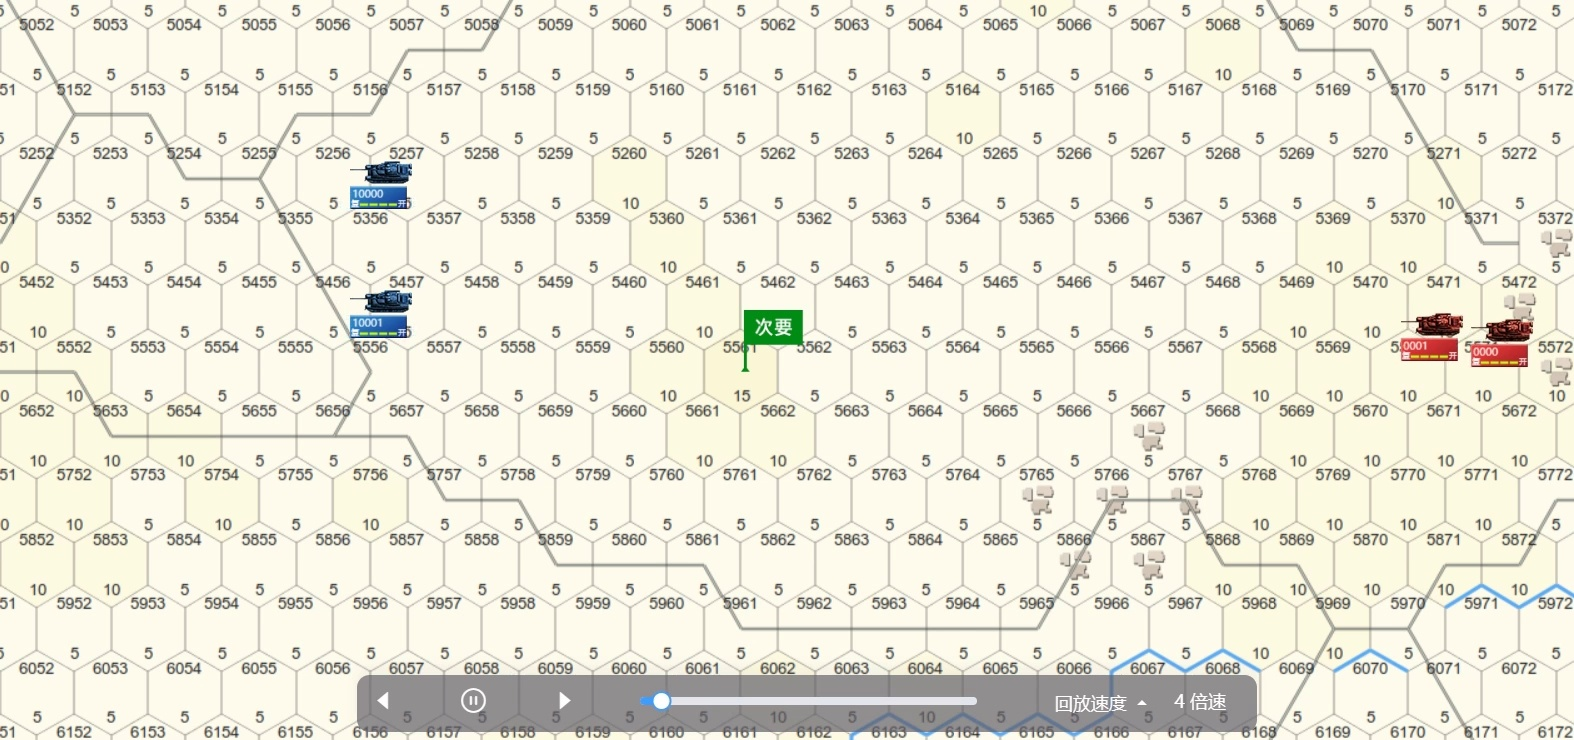blue_tank: (349, 292, 420, 340), (362, 160, 416, 208)
red_tank: (1474, 319, 1536, 364), (1407, 316, 1467, 356)
